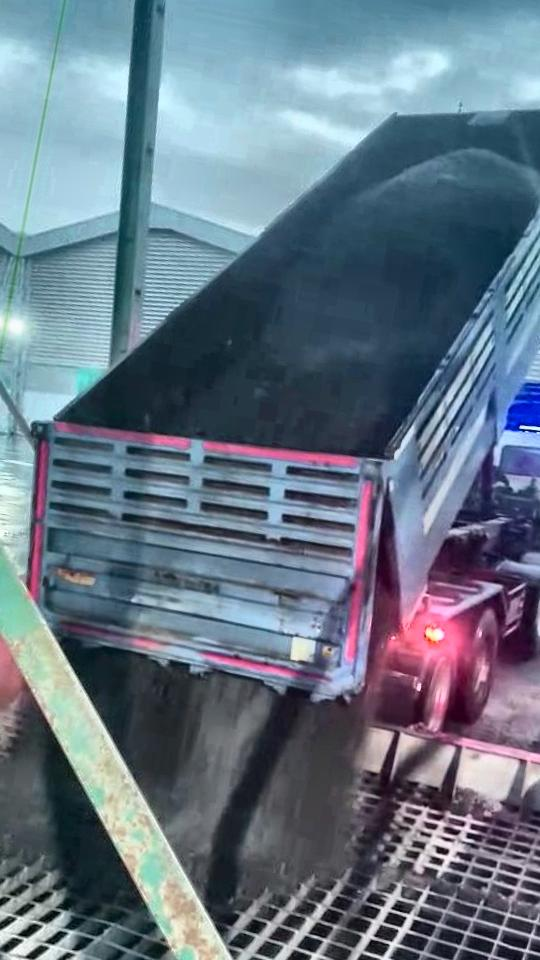gravel: (215, 141, 540, 455), (66, 642, 373, 911), (0, 702, 125, 901)
